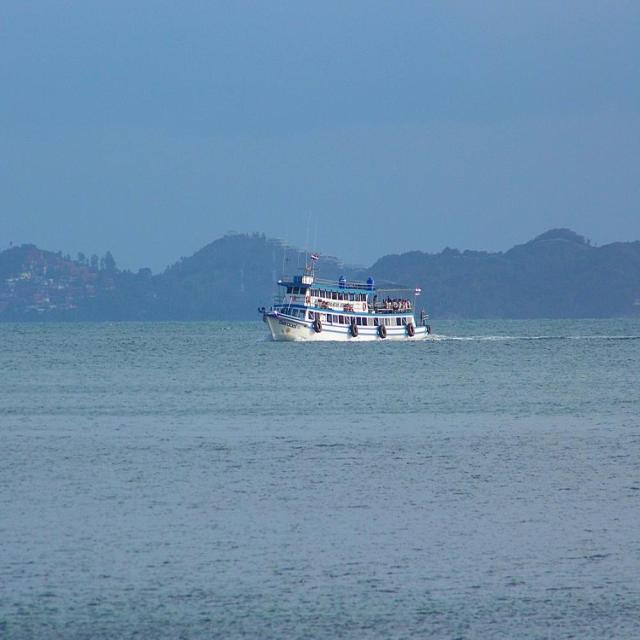fishing boat: (254, 260, 433, 349)
